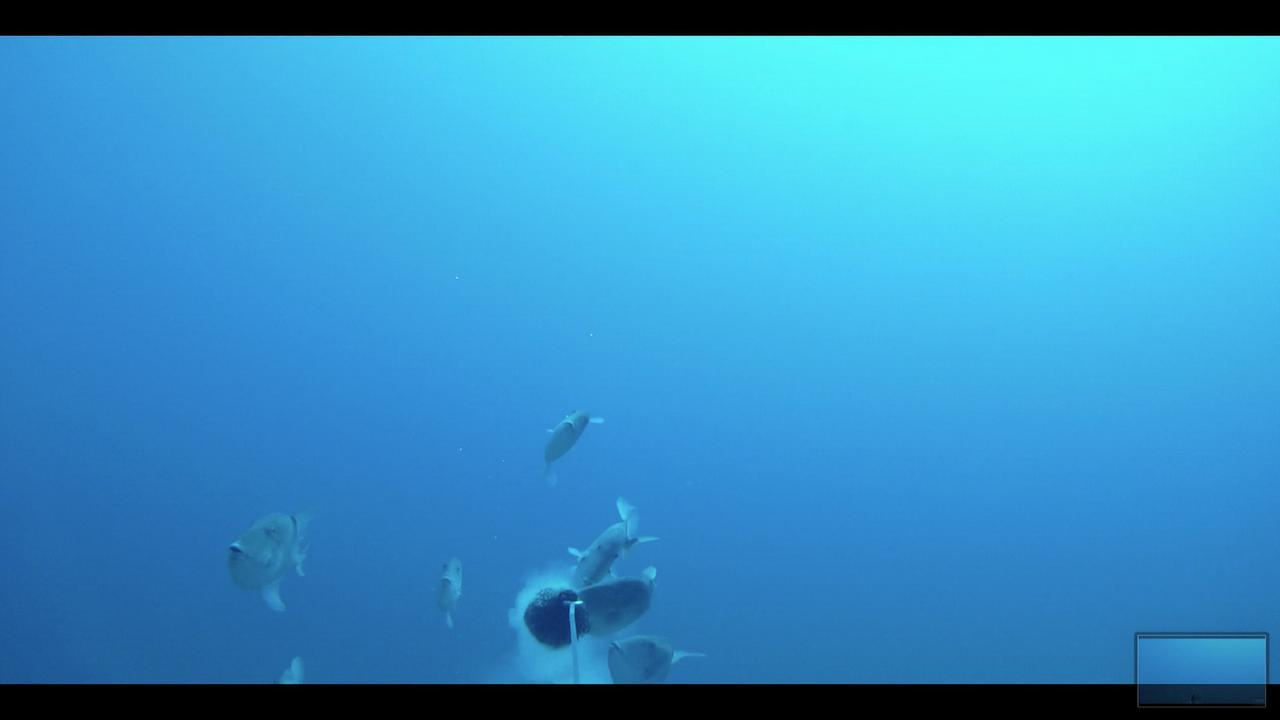balistes: (226, 508, 326, 618), (565, 492, 660, 575), (570, 571, 667, 646), (525, 404, 608, 481), (599, 633, 711, 683), (425, 547, 472, 637)
